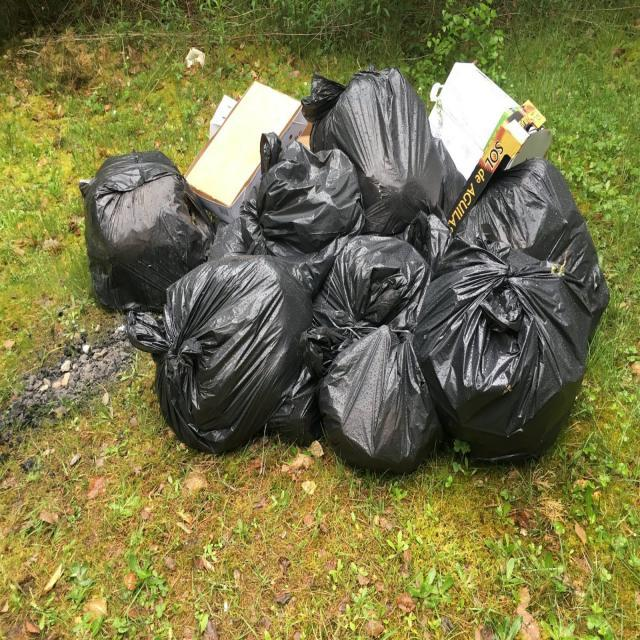garbage: (48, 50, 615, 482)
